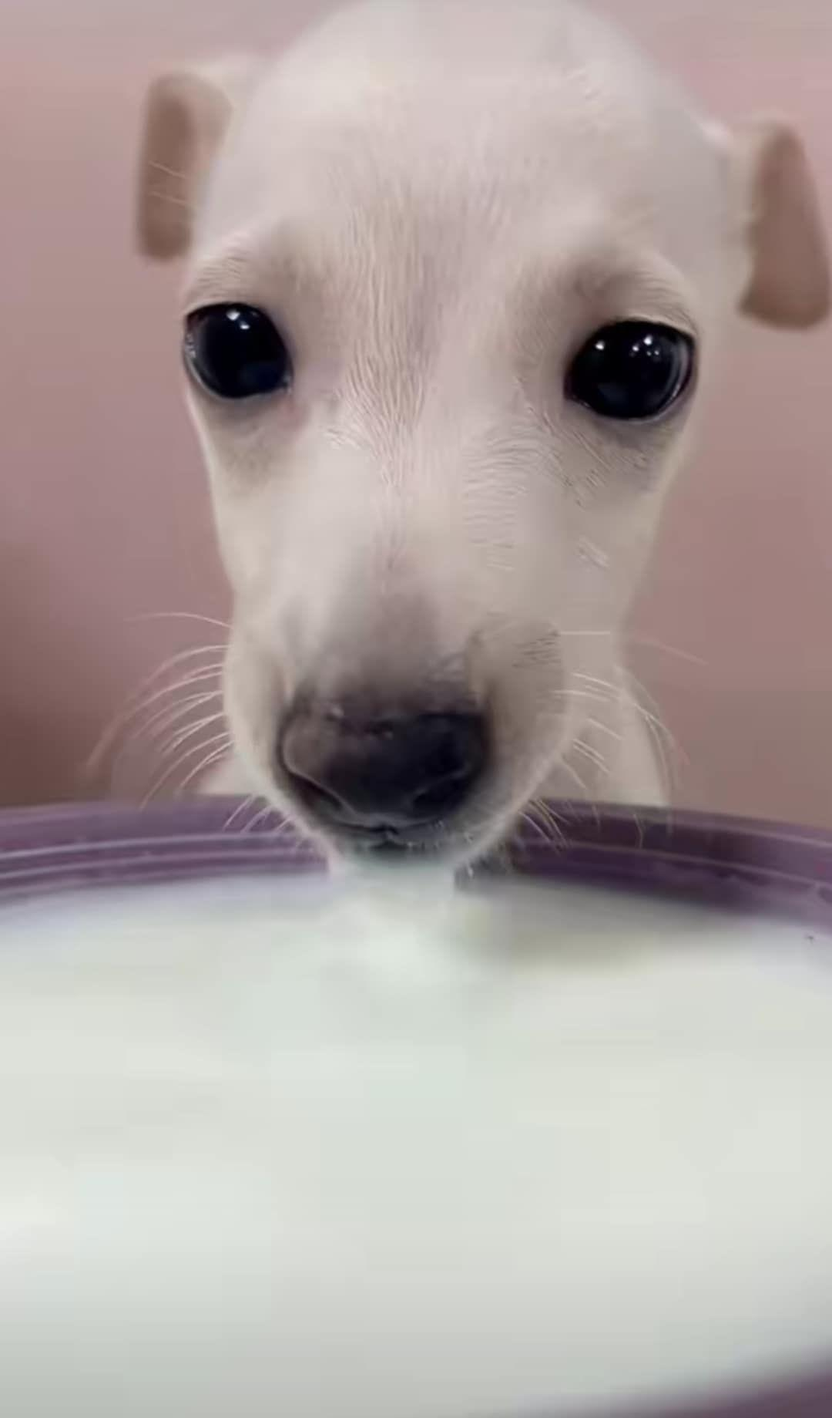puppy-dog: (135, 1, 830, 867)
